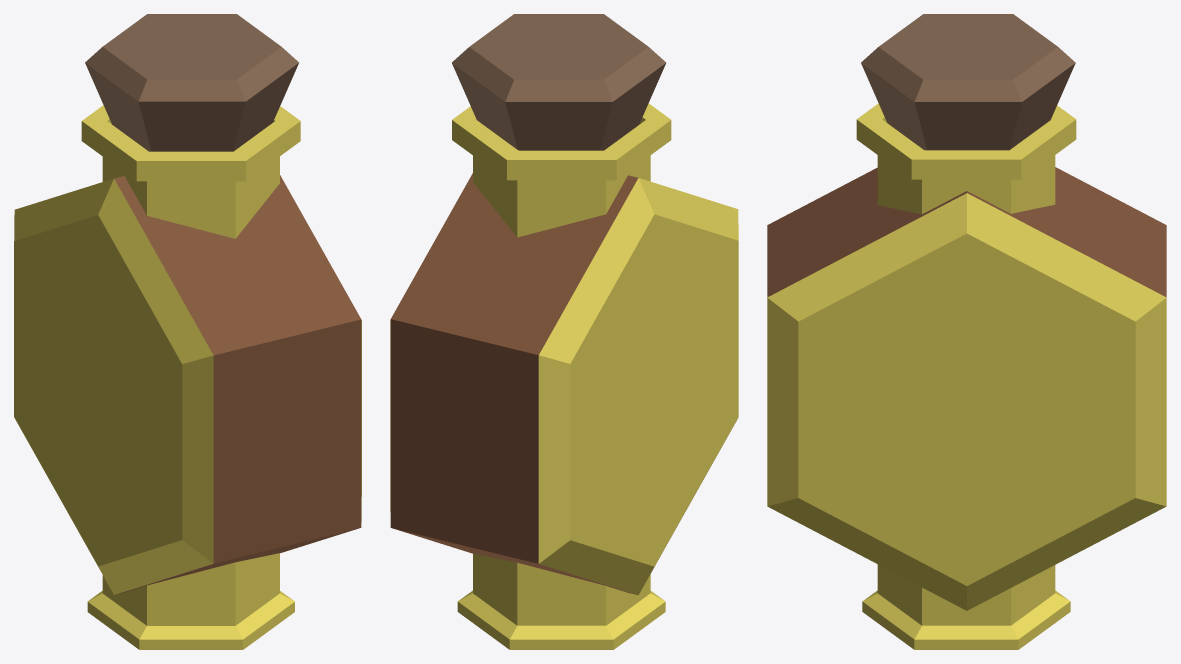
File: Jar3.fbx
3 views of the same model, side by side, from view 1: azimuth 30°, elevation 25°; view 2: azimuth 150°, elevation 25°; view 3: azimuth 270°, elevation 25° (orthographic).
Visible parts, largest first — view 1: Cylinder.014, Cylinder.013; view 2: Cylinder.014, Cylinder.013; view 3: Cylinder.014, Cylinder.013.
Boxes of the visible parts, x1=… form: Cylinder.014: x1=14, y1=105, x2=361, y2=649; Cylinder.013: x1=85, y1=14, x2=298, y2=151; Cylinder.014: x1=390, y1=103, x2=738, y2=649; Cylinder.013: x1=452, y1=14, x2=666, y2=150; Cylinder.014: x1=767, y1=103, x2=1166, y2=649; Cylinder.013: x1=861, y1=14, x2=1075, y2=150.
Size of the model in its own units: 3.58 by 10.76 by 6.88.
